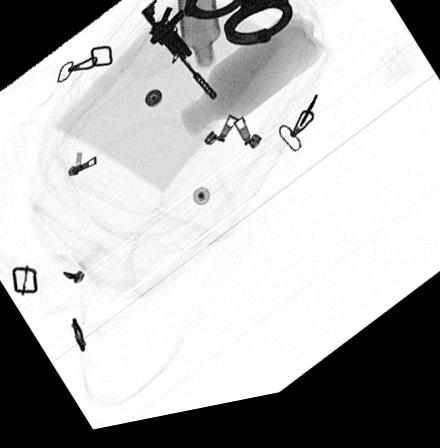Bullet: (220, 0, 253, 16)
Gun: (141, 3, 218, 108)
HandCuffs: (181, 0, 295, 56)
